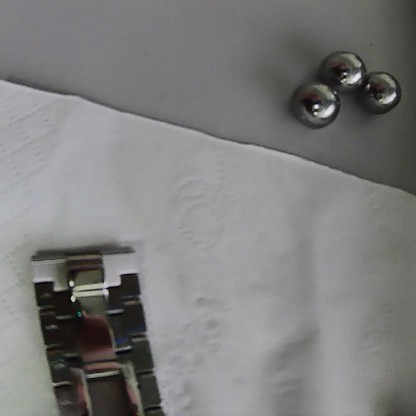ironball: (288, 74, 341, 129), (318, 44, 371, 97), (356, 71, 398, 111)
